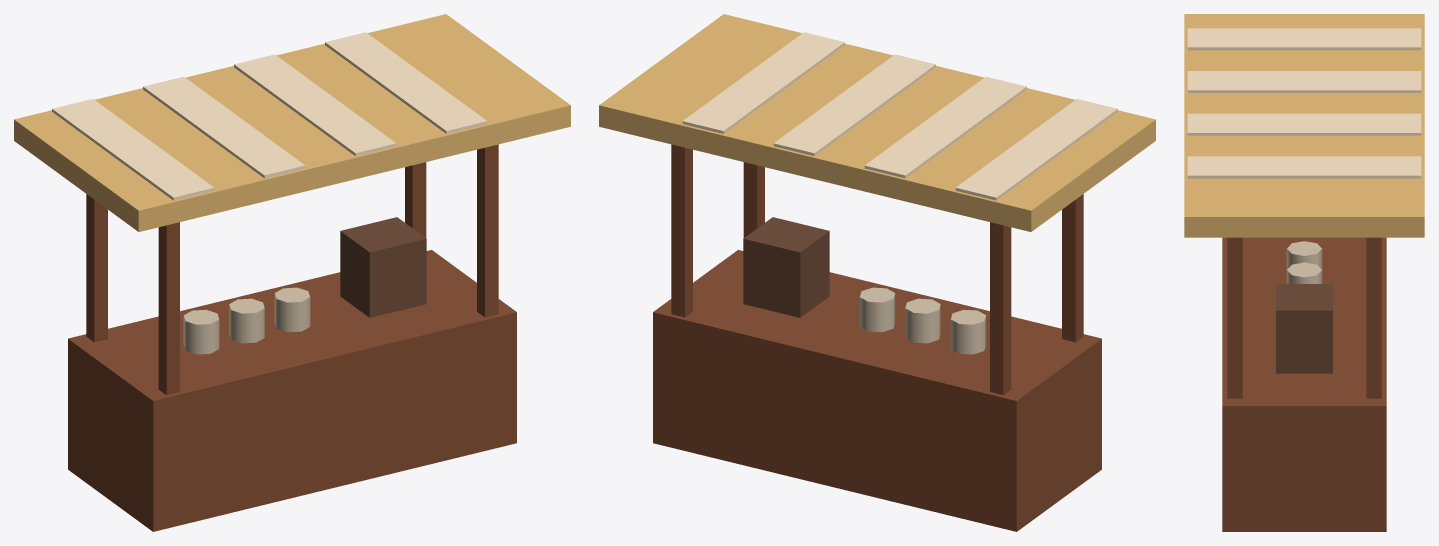
The model's file is cafe.glb.
3 views of the same model, side by side, from view 1: azimuth 30°, elevation 25°; view 2: azimuth 150°, elevation 25°; view 3: azimuth 270°, elevation 25° (orthographic). The views are drawn at different scales.
Parts seen in each view (by area): view 1: _MeshInstance3D_47, _MeshInstance3D_54, _MeshInstance3D_62, _MeshInstance3D_56, _MeshInstance3D_57, _MeshInstance3D_55, _MeshInstance3D_58, _MeshInstance3D_53, _MeshInstance3D_51, _MeshInstance3D_50, _MeshInstance3D_59, _MeshInstance3D_61 (+2 smaller); view 2: _MeshInstance3D_47, _MeshInstance3D_54, _MeshInstance3D_62, _MeshInstance3D_56, _MeshInstance3D_57, _MeshInstance3D_55, _MeshInstance3D_58, _MeshInstance3D_52, _MeshInstance3D_50, _MeshInstance3D_51, _MeshInstance3D_59, _MeshInstance3D_61 (+2 smaller); view 3: _MeshInstance3D_47, _MeshInstance3D_54, _MeshInstance3D_58, _MeshInstance3D_55, _MeshInstance3D_57, _MeshInstance3D_56, _MeshInstance3D_62, _MeshInstance3D_52, _MeshInstance3D_53, _MeshInstance3D_59, _MeshInstance3D_60.
Boxes of the visible parts, <box> form: _MeshInstance3D_47: <box>68,250,516,531</box>; _MeshInstance3D_54: <box>14,14,570,231</box>; _MeshInstance3D_62: <box>340,217,426,317</box>; _MeshInstance3D_56: <box>143,76,305,178</box>; _MeshInstance3D_57: <box>234,54,396,156</box>; _MeshInstance3D_55: <box>52,99,214,200</box>; _MeshInstance3D_58: <box>325,32,487,133</box>; _MeshInstance3D_53: <box>477,144,498,317</box>; _MeshInstance3D_51: <box>158,222,179,395</box>; _MeshInstance3D_50: <box>86,194,107,342</box>; _MeshInstance3D_59: <box>183,309,219,354</box>; _MeshInstance3D_61: <box>274,287,310,332</box>; _MeshInstance3D_47: <box>653,250,1101,531</box>; _MeshInstance3D_54: <box>599,14,1155,231</box>; _MeshInstance3D_62: <box>743,217,829,317</box>; _MeshInstance3D_56: <box>864,76,1026,178</box>; _MeshInstance3D_57: <box>773,54,935,156</box>; _MeshInstance3D_55: <box>955,99,1117,200</box>; _MeshInstance3D_58: <box>682,32,844,133</box>; _MeshInstance3D_52: <box>671,144,692,317</box>; _MeshInstance3D_50: <box>990,222,1011,395</box>; _MeshInstance3D_51: <box>1062,194,1083,342</box>; _MeshInstance3D_59: <box>950,309,986,354</box>; _MeshInstance3D_61: <box>859,287,895,332</box>; _MeshInstance3D_47: <box>1222,237,1386,531</box>; _MeshInstance3D_54: <box>1184,14,1424,237</box>; _MeshInstance3D_58: <box>1187,156,1421,178</box>; _MeshInstance3D_55: <box>1187,28,1421,50</box>; _MeshInstance3D_57: <box>1187,113,1421,135</box>; _MeshInstance3D_56: <box>1187,71,1421,92</box>; _MeshInstance3D_62: <box>1276,284,1332,373</box>; _MeshInstance3D_52: <box>1366,237,1381,398</box>; _MeshInstance3D_53: <box>1227,237,1242,398</box>; _MeshInstance3D_59: <box>1286,241,1322,269</box>; _MeshInstance3D_60: <box>1286,262,1322,283</box>.
Bounding box in the file's own units: 3.8 × 2.92 × 1.9.
